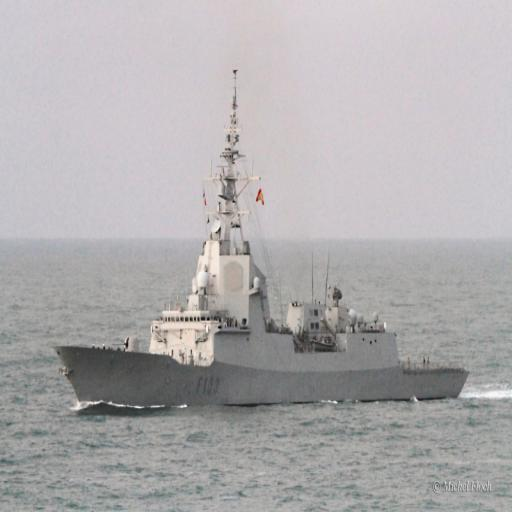Fragata: (53, 68, 473, 414)
